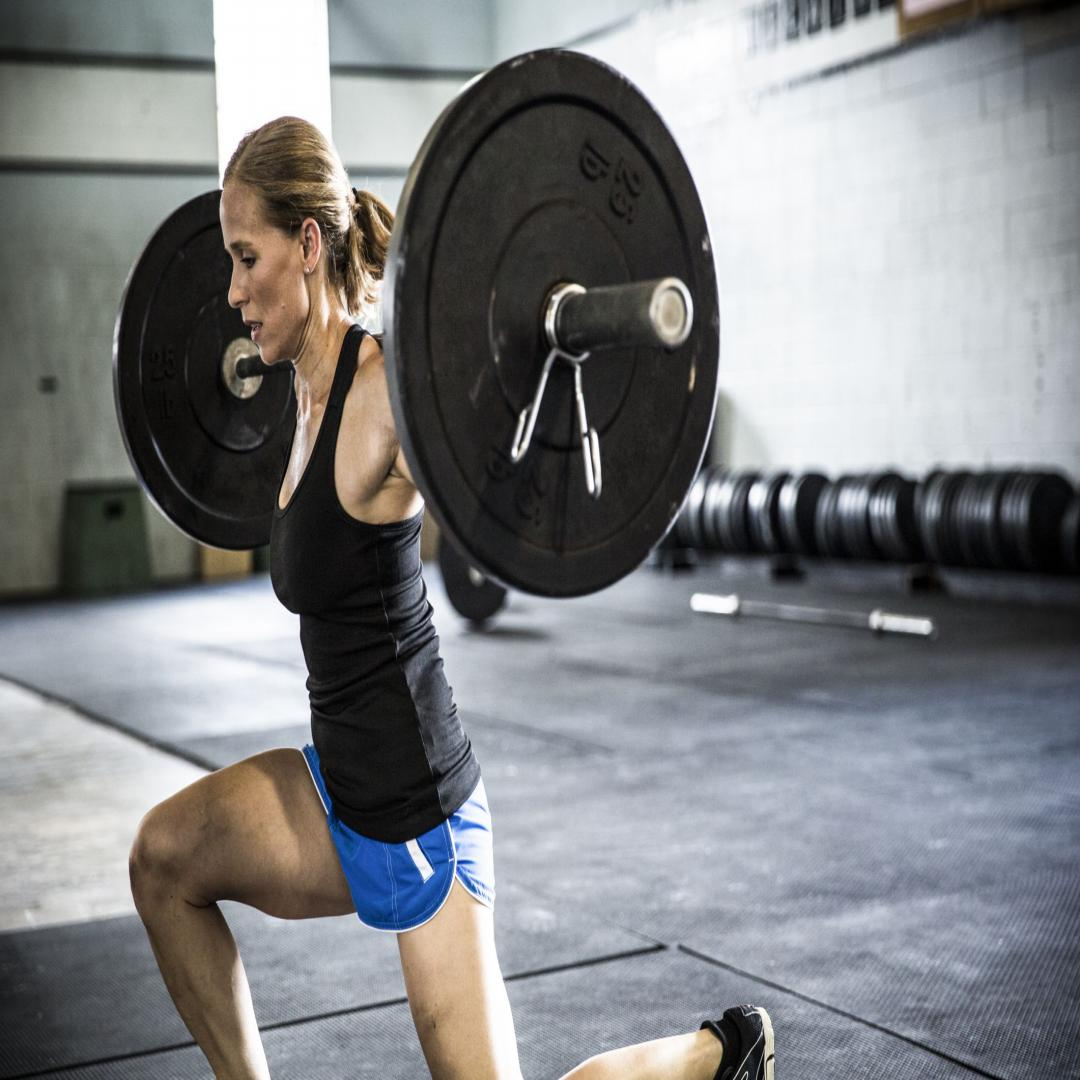Bar: (649, 276, 694, 348)
Barbell: (396, 49, 719, 598)
